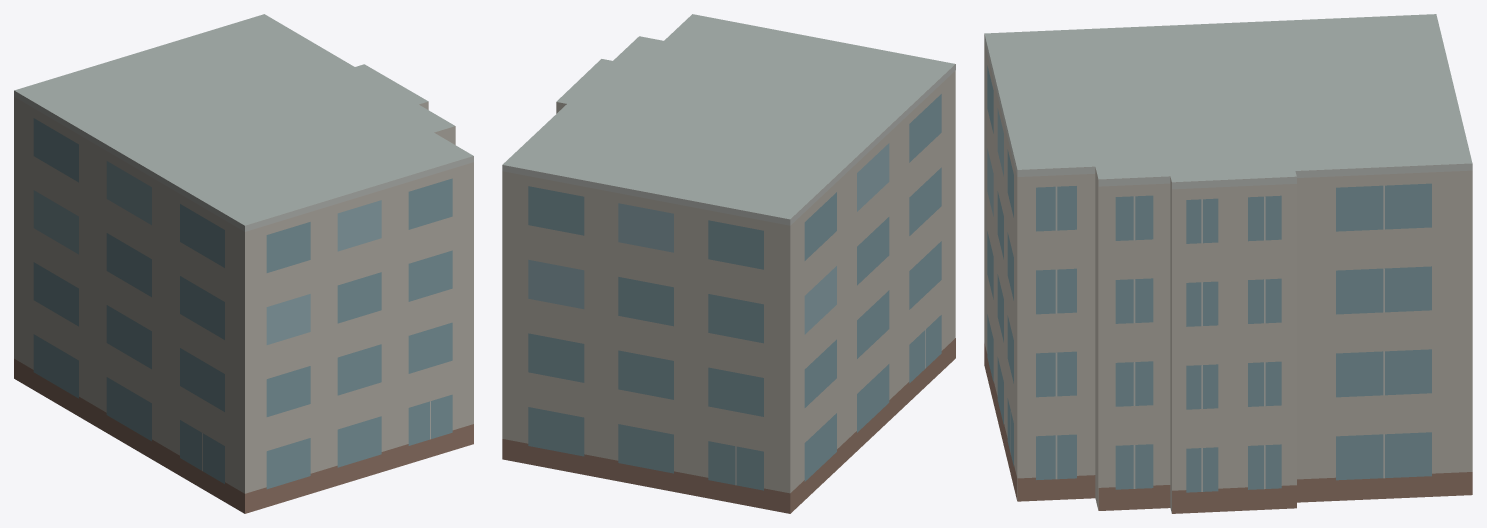
The model's file is survey-upis-32576968.glb.
The picture shows the model from 3 angles, left to right: view 1: azimuth 30°, elevation 25°; view 2: azimuth 150°, elevation 25°; view 3: azimuth 270°, elevation 25°; orthographic projection. The views are drawn at different scales.
Visible parts, largest first — view 1: survey-upis-32576968.tmp; view 2: survey-upis-32576968.tmp; view 3: survey-upis-32576968.tmp.
Part boxes in pixels (x1,y1,x2,y2): survey-upis-32576968.tmp: (14, 14, 473, 513); survey-upis-32576968.tmp: (502, 14, 955, 513); survey-upis-32576968.tmp: (984, 14, 1472, 513).
Bounding box in the file's own units: 12.31 × 11.3 × 15.09.
